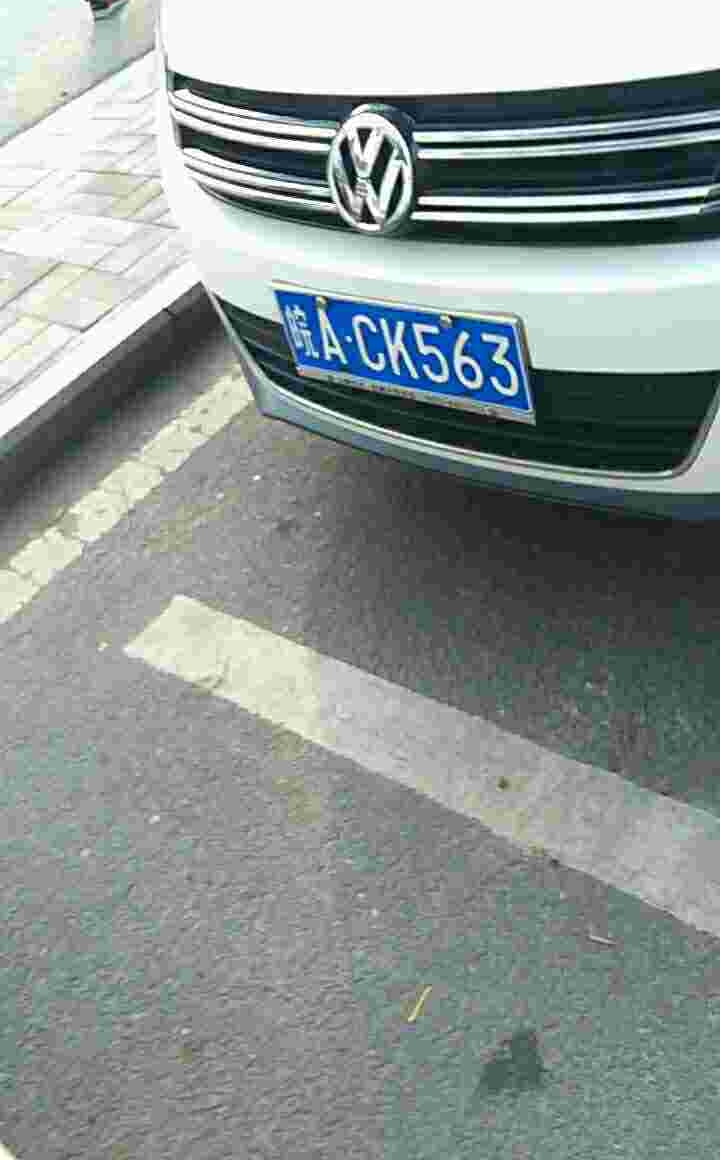license_plate: (275, 290, 536, 417)
